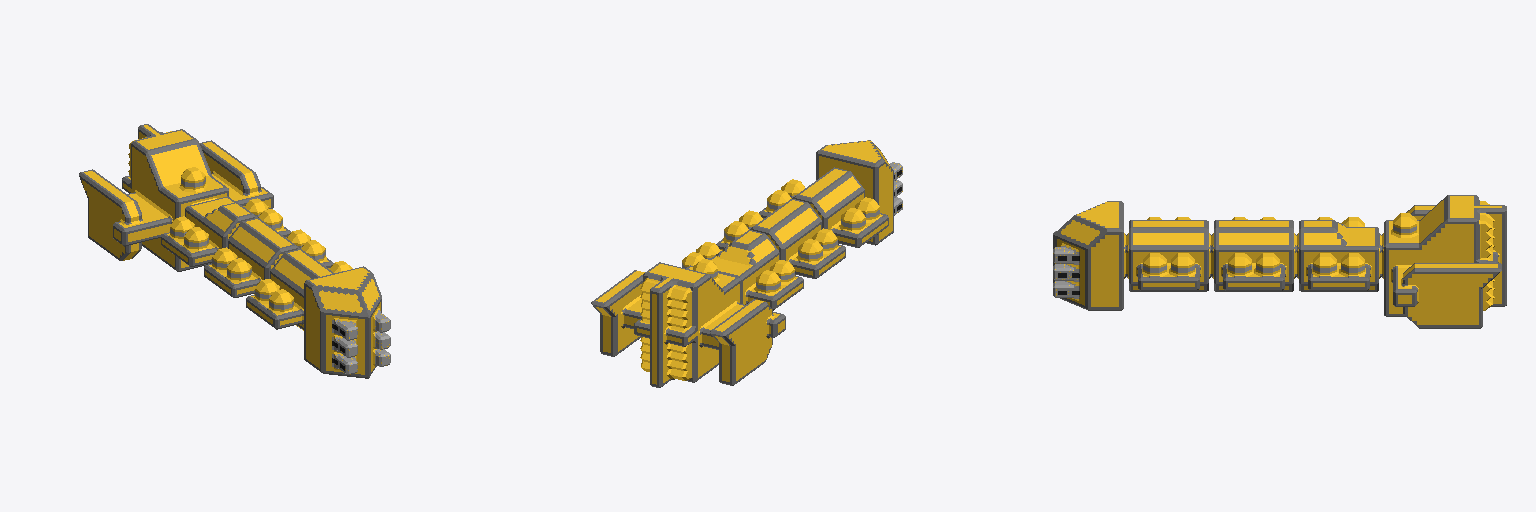
3 renders of one model, left to right at view 1: azimuth 30°, elevation 25°; view 2: azimuth 150°, elevation 25°; view 3: azimuth 270°, elevation 25°, orthographic.
Bounding box in the file's own units: 37 × 23 × 96.
Materials: 1 (1 with a texture image).